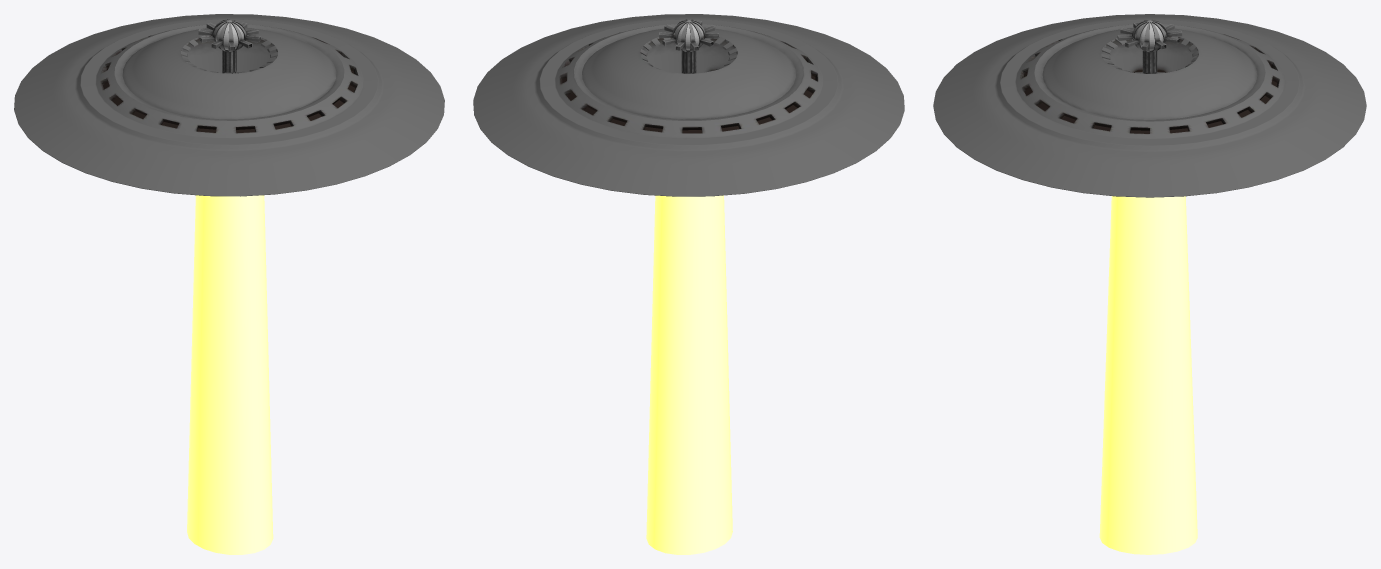
The model's file is ufo.fbx.
The picture shows the model from 3 angles, left to right: view 1: azimuth 30°, elevation 25°; view 2: azimuth 150°, elevation 25°; view 3: azimuth 270°, elevation 25°; orthographic projection.
Parts seen in each view (by area): view 1: ufo, beam; view 2: ufo, beam; view 3: ufo, beam.
Boxes of the visible parts, x1=… form: ufo: x1=14, y1=14, x2=444, y2=196; beam: x1=187, y1=195, x2=273, y2=554; ufo: x1=473, y1=14, x2=904, y2=196; beam: x1=646, y1=195, x2=732, y2=554; ufo: x1=933, y1=14, x2=1366, y2=197; beam: x1=1099, y1=196, x2=1197, y2=554.
Size of the model in its own units: 2119 by 2784 by 2119.
